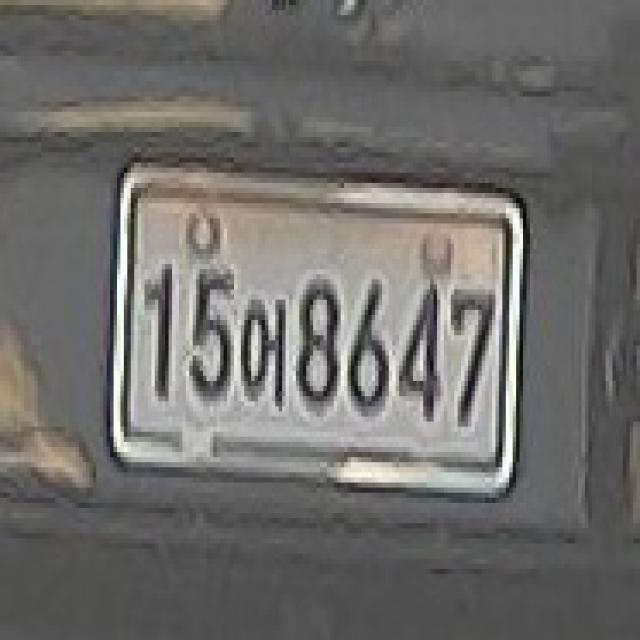1: (131, 259, 182, 411)
4: (396, 274, 450, 437)
5: (182, 259, 238, 417)
6: (348, 269, 396, 427)
7: (448, 269, 496, 447)
8: (292, 269, 348, 422)
eo: (237, 284, 289, 416)
license_plate: (100, 152, 537, 498)
